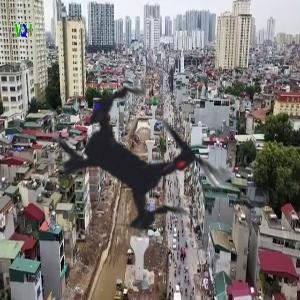drone: (5, 24, 272, 291)
